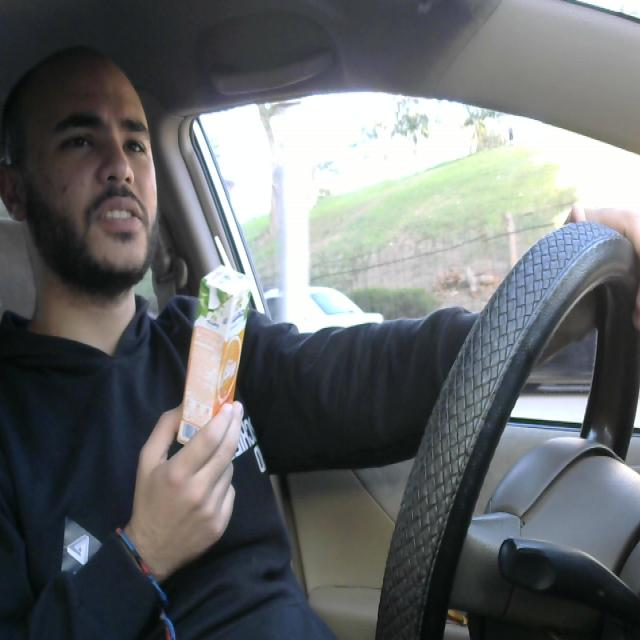drinking: (170, 229, 259, 462)
